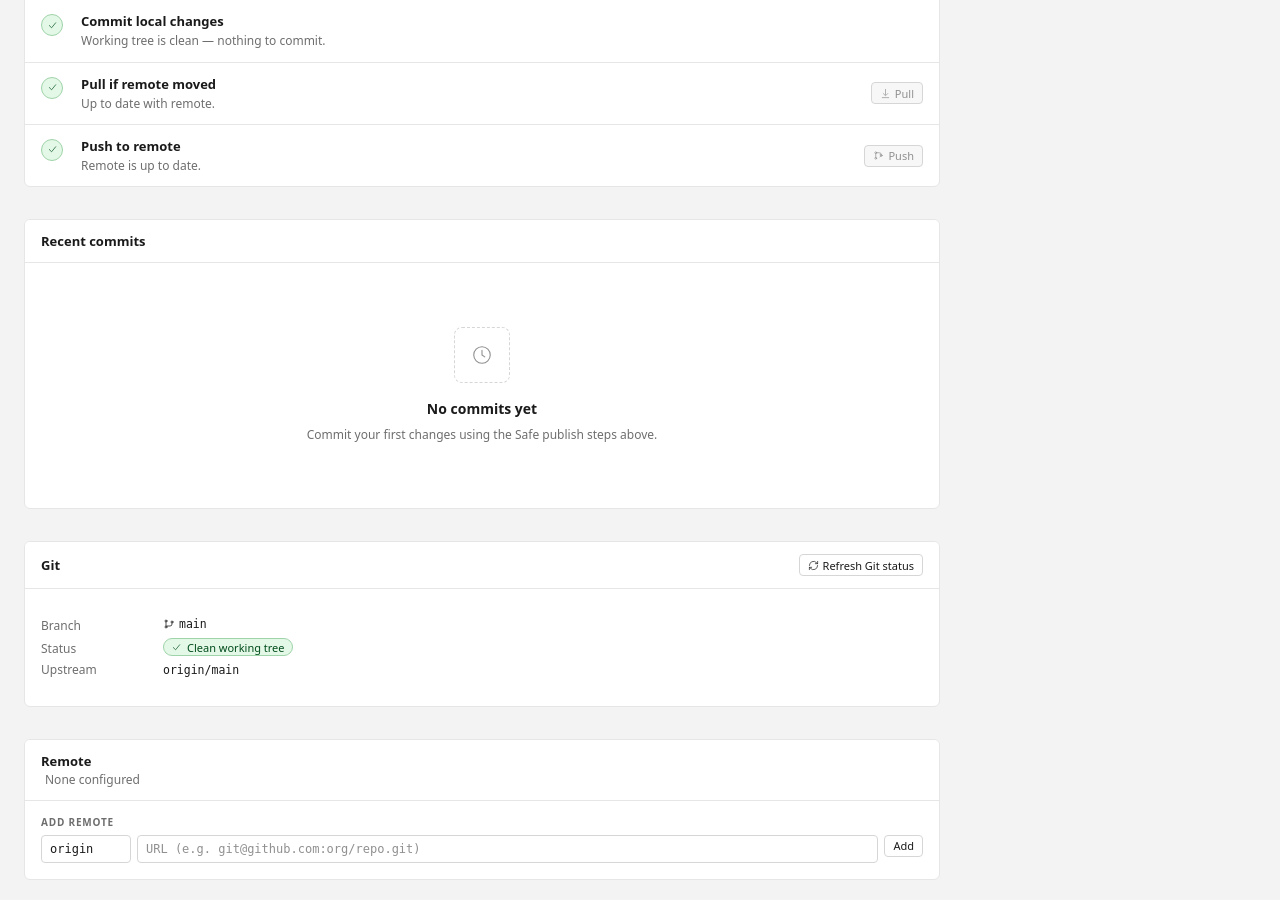
Test: RepositoryPanel — Refresh Git status button › Refresh Git status button is absent (loading placeholder shown) while refresh is running
The width and height of the screenshot is (1280, 900).
(page scrolled)
Step 1. Click the button "Refresh Git status" → [861, 565], box [799,554,923,576]
(page scrolled)
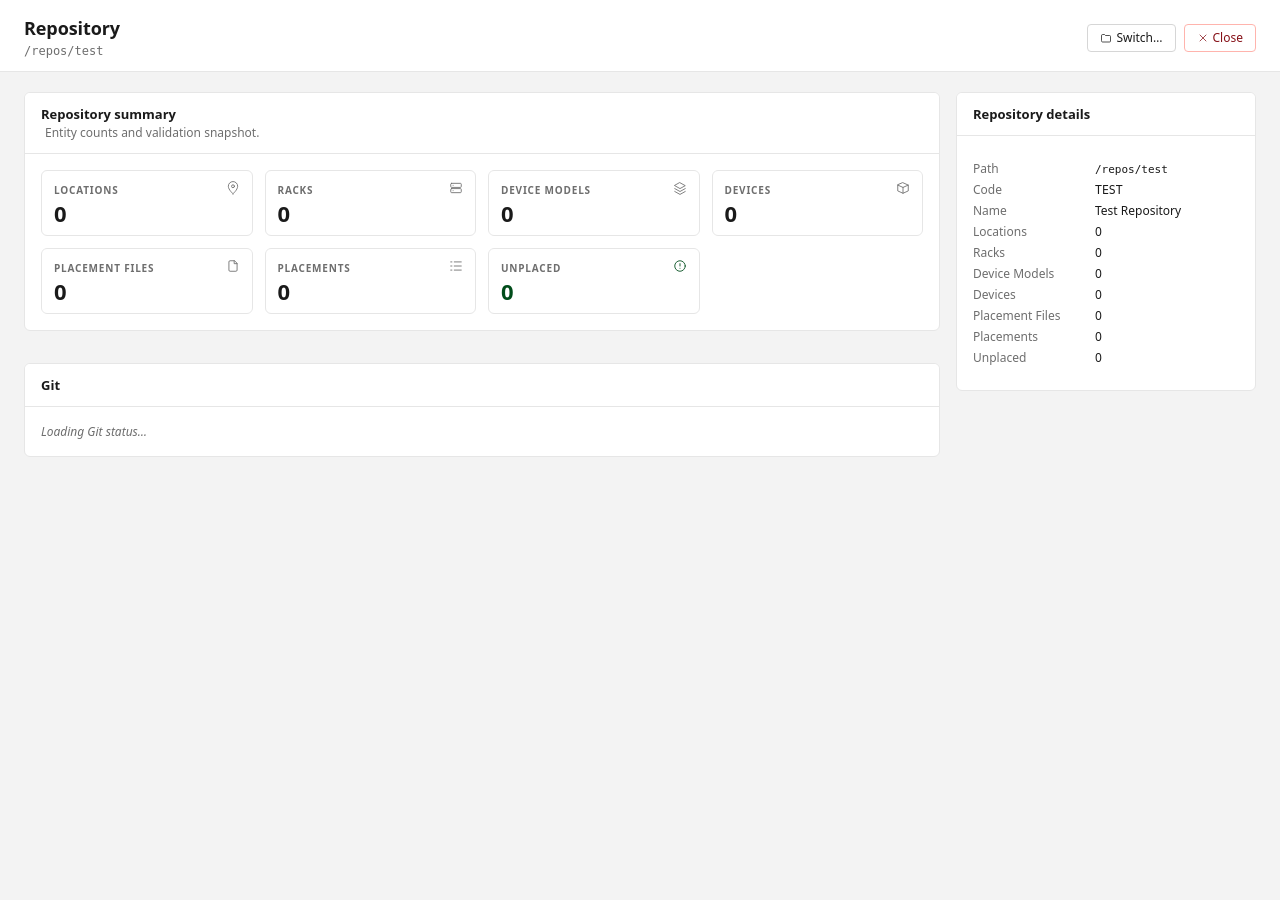
Now the button "Refresh Git status" is gone
